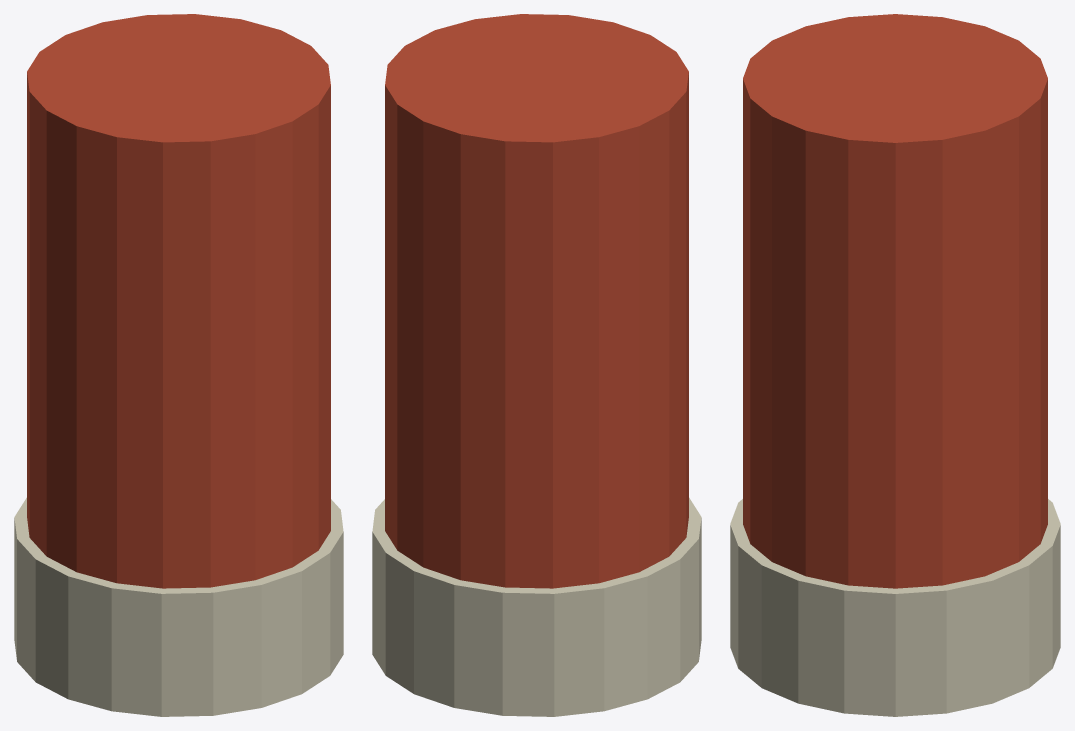
Rendered from shell.glb.
3 renders of one model, left to right at view 1: azimuth 30°, elevation 25°; view 2: azimuth 150°, elevation 25°; view 3: azimuth 270°, elevation 25°, orthographic.
Parts seen in each view (by area): view 1: shell; view 2: shell; view 3: shell.
Part boxes in pixels (x1,y1,x2,y2): shell: (14, 14, 343, 716); shell: (372, 14, 701, 716); shell: (730, 14, 1060, 716).
Size of the model in its own units: 0.039 by 0.076 by 0.039.
